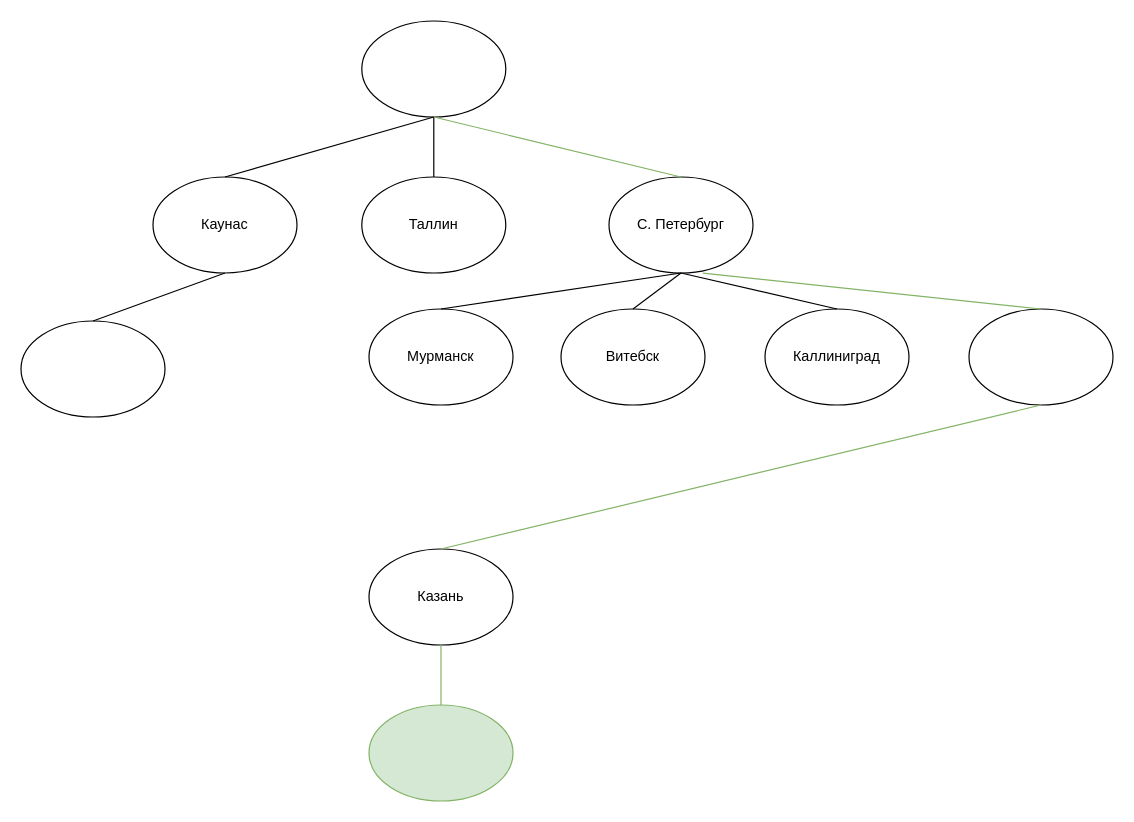
The diagram is 1134 pixels wide and 822 high, and some of its shapes have lost their labels. The box of each missing label's shape, as (x1, y1, x2, y2) in pixels:
Вильнос: (20, 320, 165, 417)
Москва: (968, 308, 1113, 405)
Рига: (361, 20, 506, 117)
Уфа: (368, 704, 513, 801)
